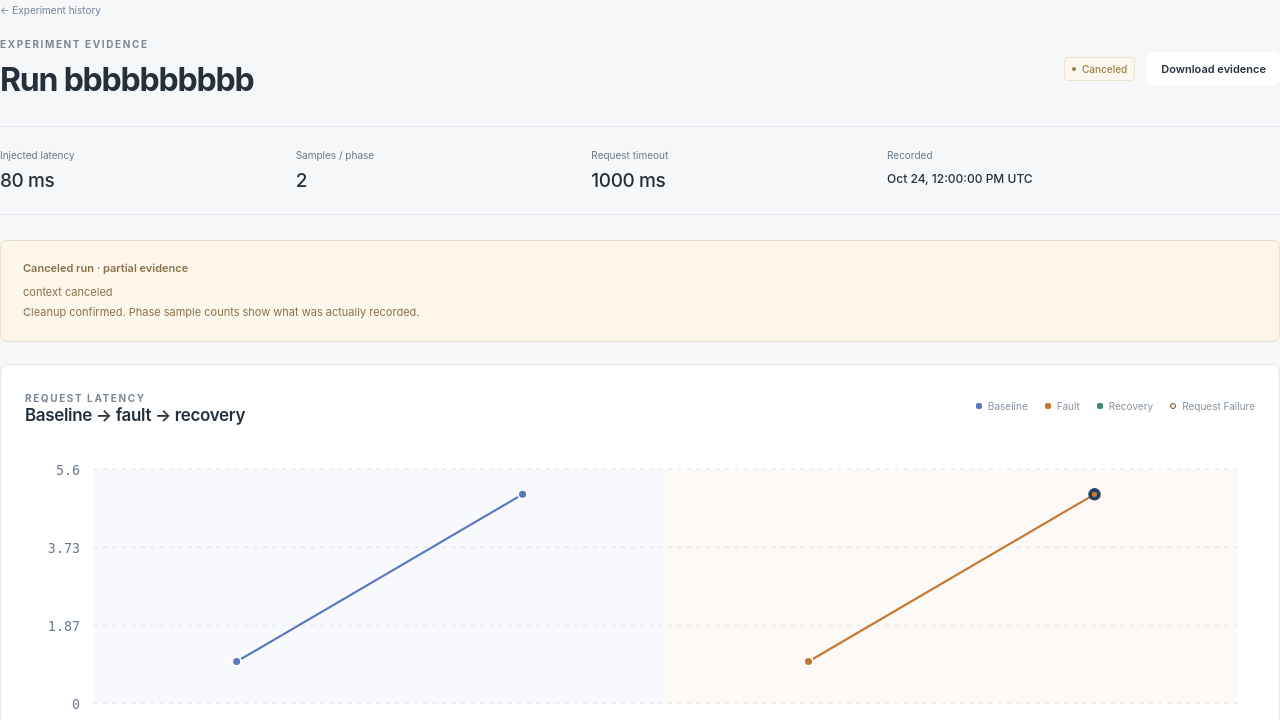
Scenario: canceled partial evidence exposes keyboard-accessible raw timings and historical trace references
Expected: the text "Canceled run · partial evidence" is shown, [23, 261, 188, 275]
Press Enter in the button "fault request 2: 5 ms, HTTP unavailable", box [1090, 490, 1099, 499]
(page scrolled)
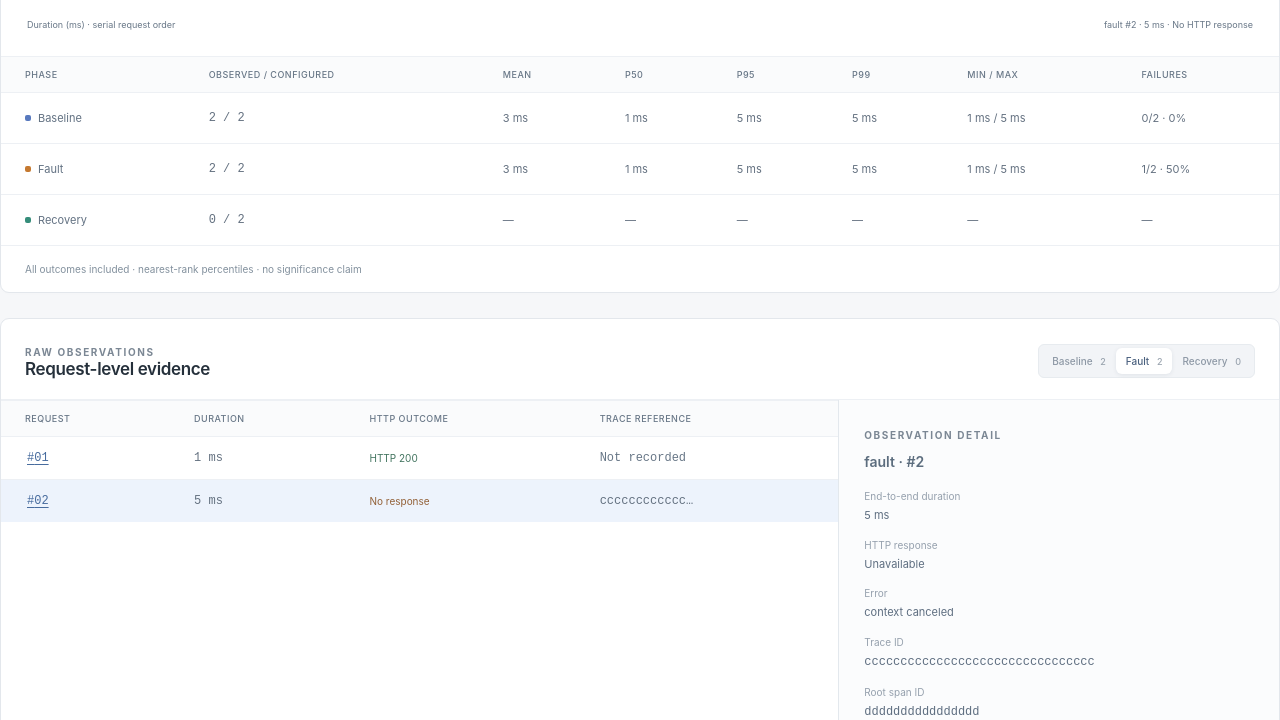
Click the button "recovery 0".
click(1212, 361)  # box [1172, 348, 1251, 374]
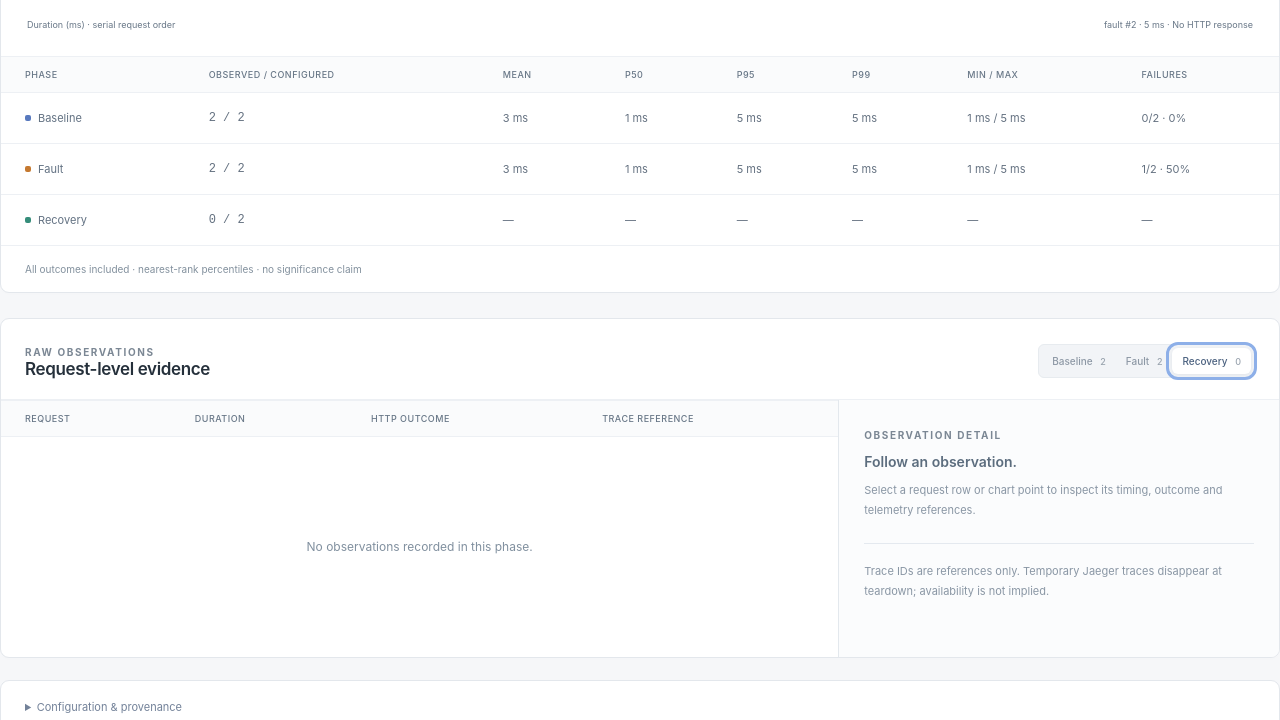
Expected: the text "No observations recorded in this phase." is shown, [307, 539, 533, 554]
